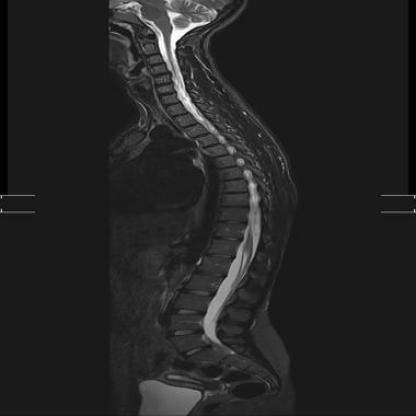Disc Bulgerotation: (221, 202, 247, 212), (222, 188, 247, 198), (152, 69, 171, 79), (223, 174, 242, 184)
